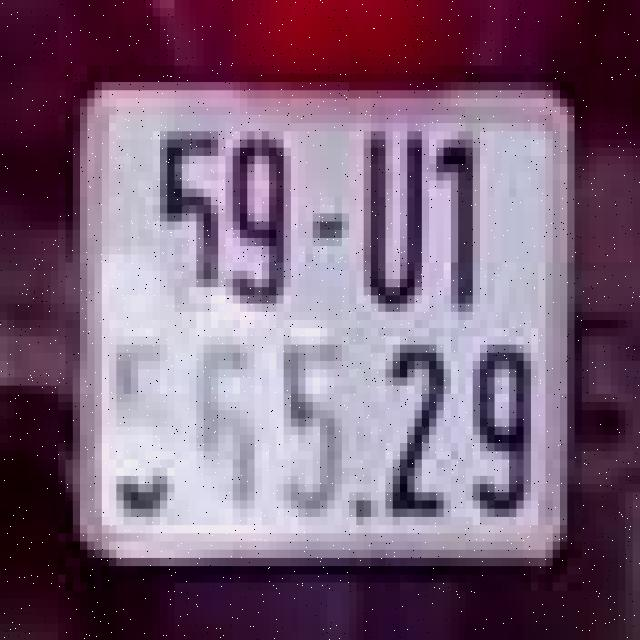1: (432, 111, 483, 316)
2: (378, 332, 451, 521)
5: (98, 324, 178, 538), (146, 119, 226, 299), (276, 324, 349, 521)
6: (189, 324, 262, 529)
9: (226, 119, 306, 316), (480, 336, 545, 534)
U: (352, 119, 432, 324)
